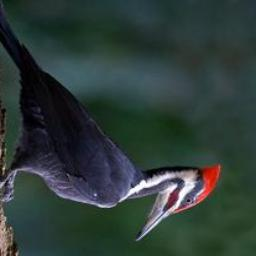Woodpecker: (0, 0, 221, 242)
